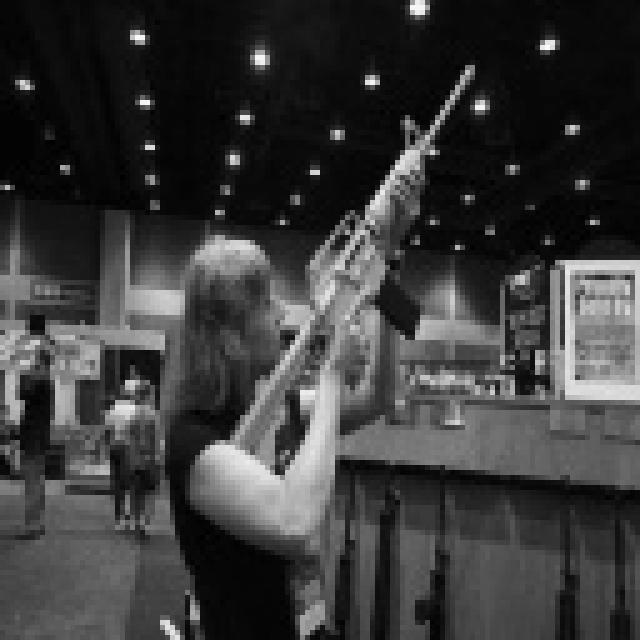Rifle: (132, 12, 502, 514), (393, 440, 488, 640), (340, 427, 429, 640), (563, 425, 640, 640), (529, 433, 602, 640), (298, 448, 374, 640)
